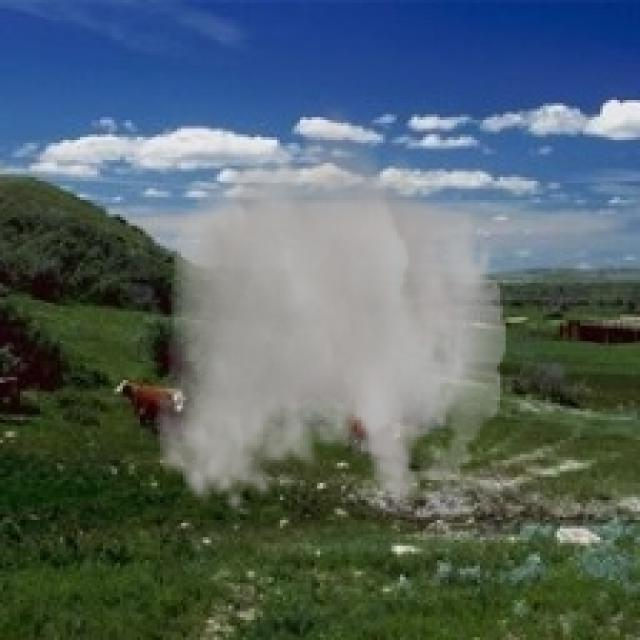smoke: (154, 97, 506, 514)
